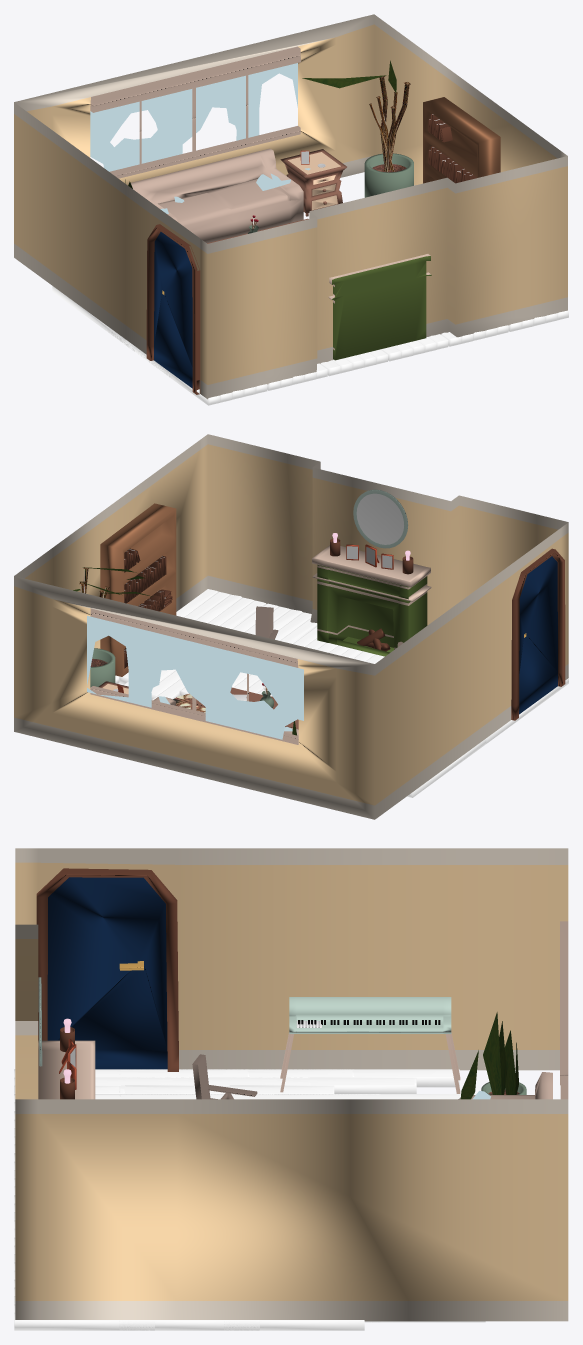
File: SecondHouse.glb
3 renders of one model, top to bottom at view 1: azimuth 30°, elevation 25°; view 2: azimuth 150°, elevation 25°; view 3: azimuth 270°, elevation 25°, orthographic. The views are drawn at different scales.
Visible parts, largest first — view 1: Walls, Sofa, window, Rose.002, DoorFrame, WoodFloor, bookshelf, Table, PlantVase.001, BigBranches, Plane.007; view 2: Walls, window, Rose.002, DoorFrame, WoodFloor, bookshelf, MirrorMiddle, PlantVase.001, chair2; view 3: Walls, DoorFrame, WoodFloor, wurlibody, Rose.002, Plane.001, chair2.001, Sofa.
Part boxes in pixels (box(x1,y1,x2,y2)): Walls: box(14, 14, 567, 399); Sofa: box(128, 148, 303, 243); window: box(90, 63, 310, 213); Rose.002: box(328, 254, 431, 360); DoorFrame: box(146, 224, 200, 394); WoodFloor: box(52, 286, 568, 405); bookshelf: box(423, 97, 500, 183); Table: box(280, 149, 346, 216); PlantVase.001: box(364, 153, 413, 197); BigBranches: box(252, 76, 410, 229); Plane.007: box(302, 60, 396, 93); Walls: box(14, 434, 568, 819); window: box(87, 615, 303, 739); Rose.002: box(312, 545, 431, 656); DoorFrame: box(511, 548, 565, 720); WoodFloor: box(115, 589, 568, 797); bookshelf: box(100, 503, 176, 676); MirrorMiddle: box(353, 489, 408, 548); PlantVase.001: box(90, 648, 115, 687); chair2: box(255, 606, 278, 639); Walls: box(15, 848, 568, 1321); DoorFrame: box(36, 868, 178, 1071); WoodFloor: box(14, 1069, 485, 1330); wurlibody: box(280, 997, 460, 1093); Rose.002: box(38, 1040, 95, 1099); Plane.001: box(483, 1012, 518, 1094); chair2.001: box(192, 1054, 257, 1099); Sofa: box(458, 1072, 552, 1099).
Size of the model in its own units: 6.11 by 2.59 by 5.64.
Materials: 10 (5 with a texture image).
